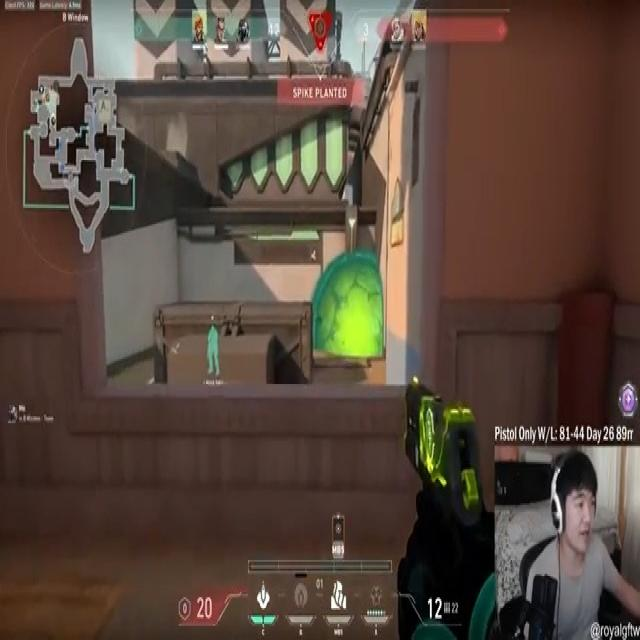ally behind wall: (206, 321, 222, 379)
smoke: (316, 251, 390, 357)
